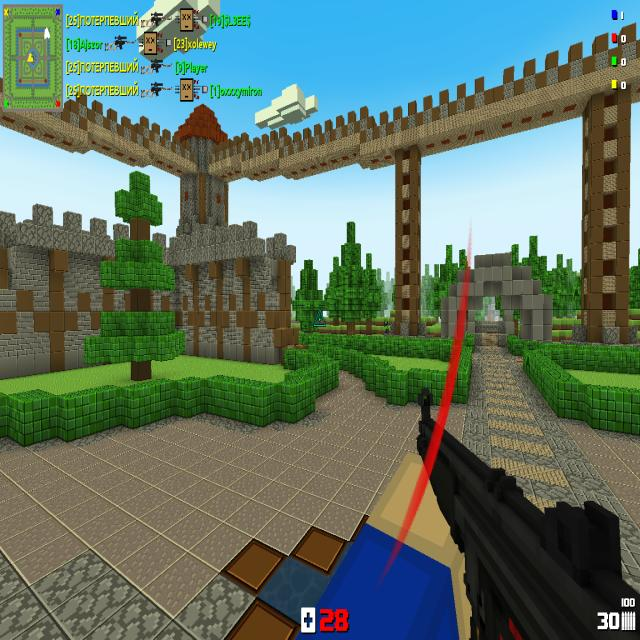enemy: (384, 318, 389, 334)
